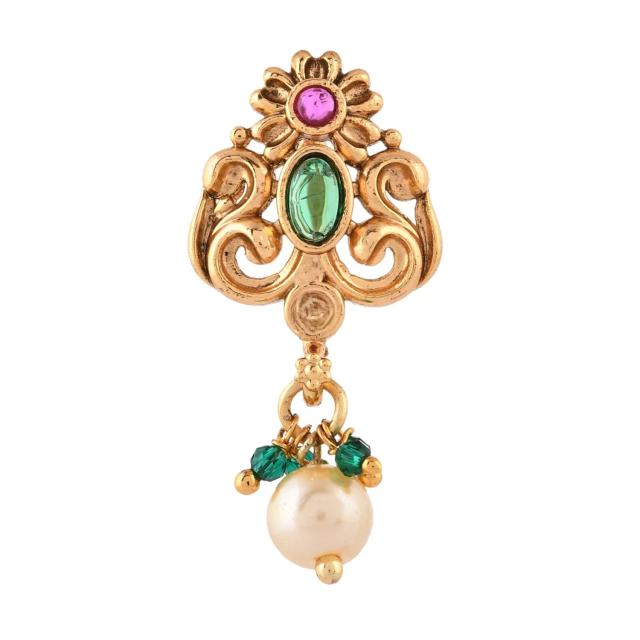missing gem: (291, 290, 337, 335)
